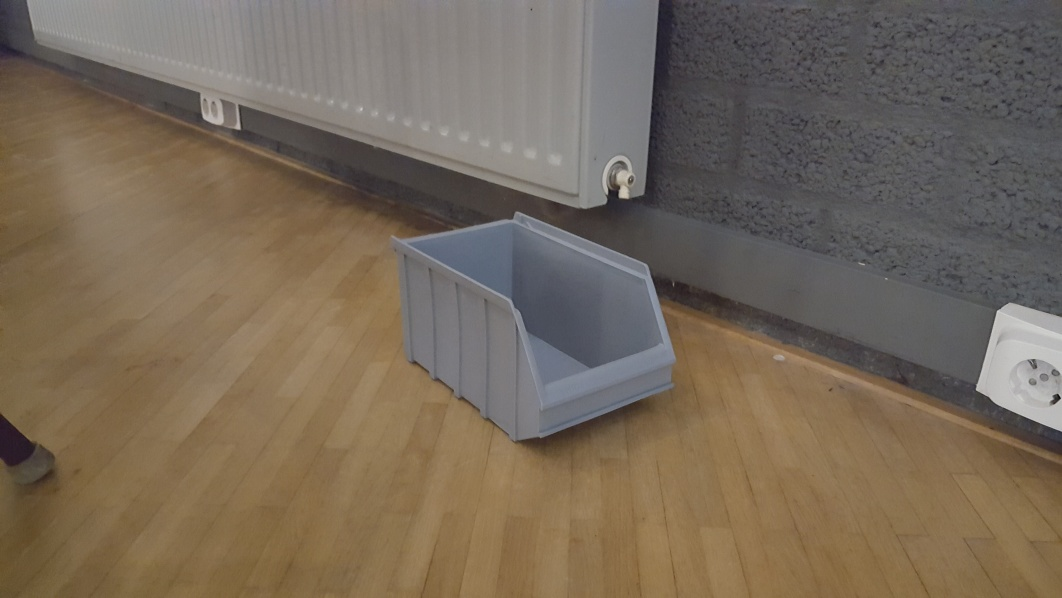tray: (388, 212, 678, 444)
